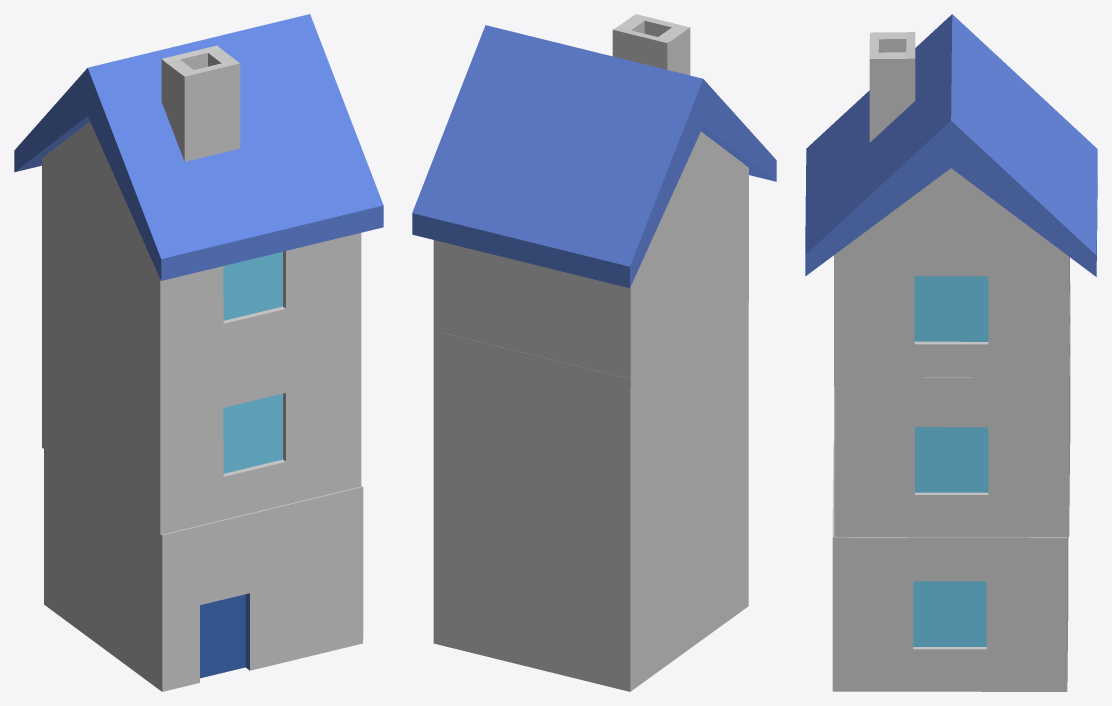
Rendered from House 3.fbx.
3 views of the same model, side by side, from view 1: azimuth 30°, elevation 25°; view 2: azimuth 150°, elevation 25°; view 3: azimuth 270°, elevation 25° (orthographic).
Parts seen in each view (by area): view 1: House 3; view 2: House 3; view 3: House 3.
Part boxes in pixels (x1,y1,x2,y2): House 3: (14,14,383,691); House 3: (412,14,776,691); House 3: (805,14,1097,691).
Bounding box in the file's own units: 622 × 1579 × 718.
